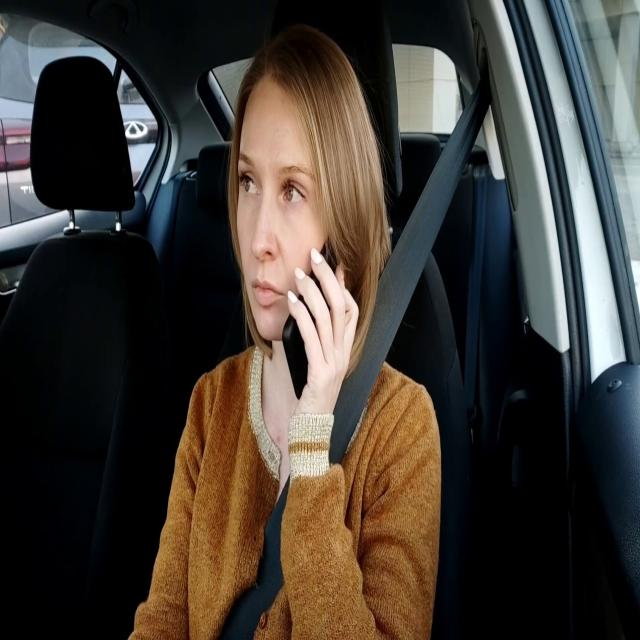phone: (282, 230, 341, 404)
